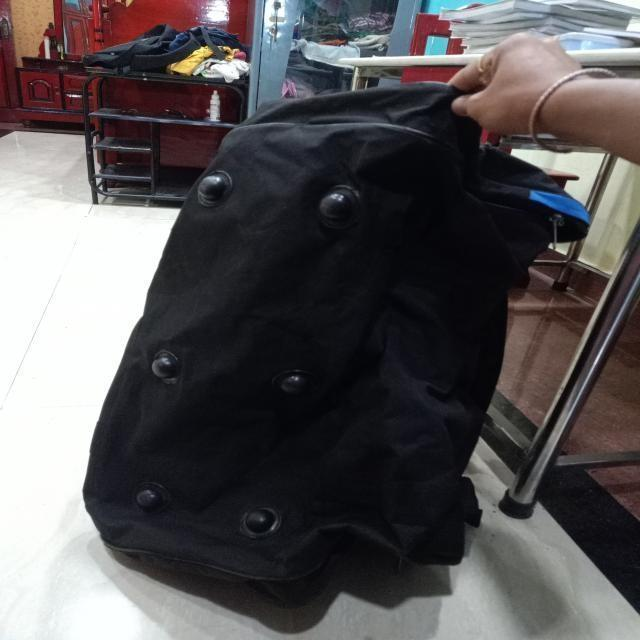Suitcase: (82, 100, 586, 633)
